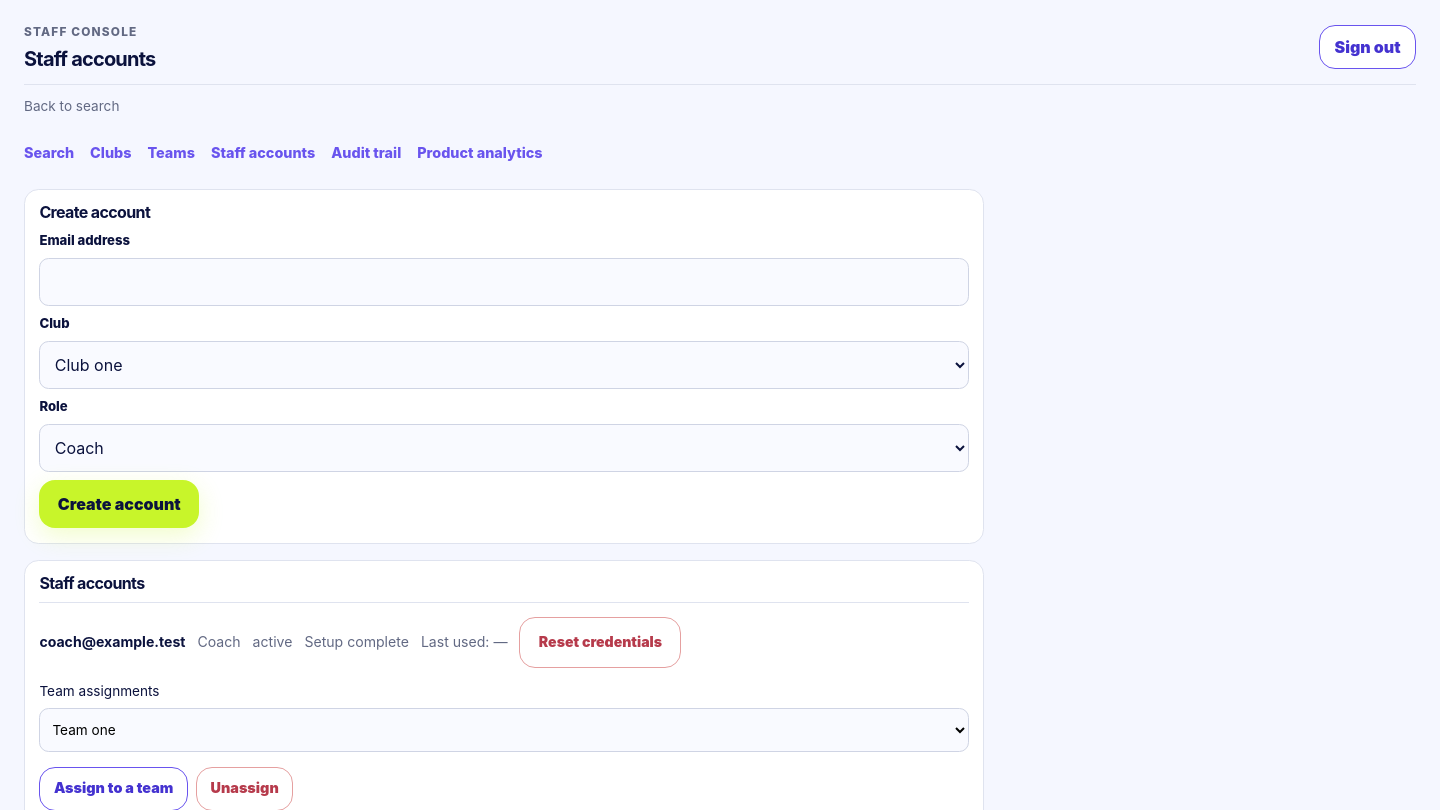
Scenario: staff account step-up intent › cancels without creating staff or discarding the filled form
Type "new@example.test" into the field labelled "Email address" at (504,282), box x1=39 y1=258 x2=969 y2=306
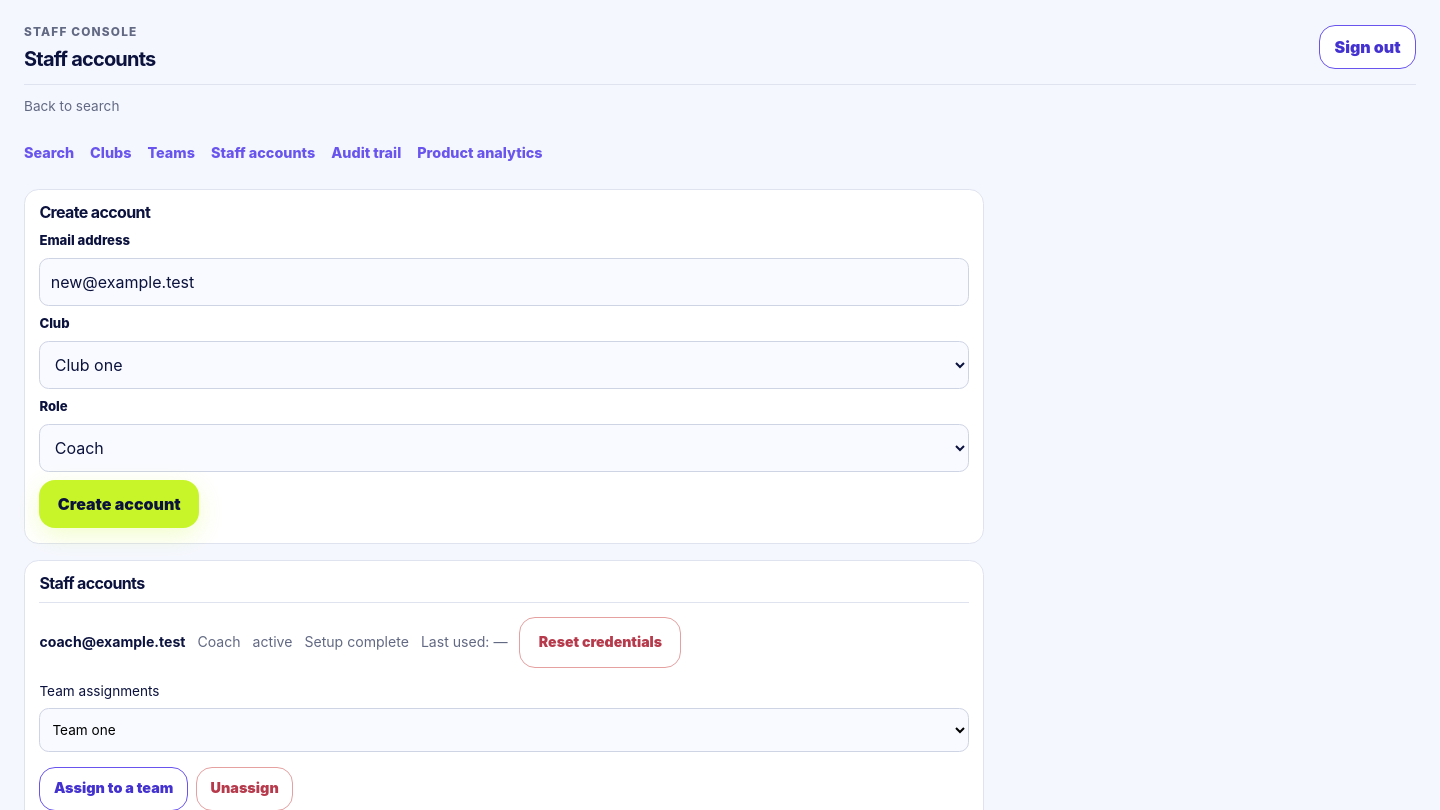
Submit the form from the button "Create account", box x1=39 y1=480 x2=199 y2=528
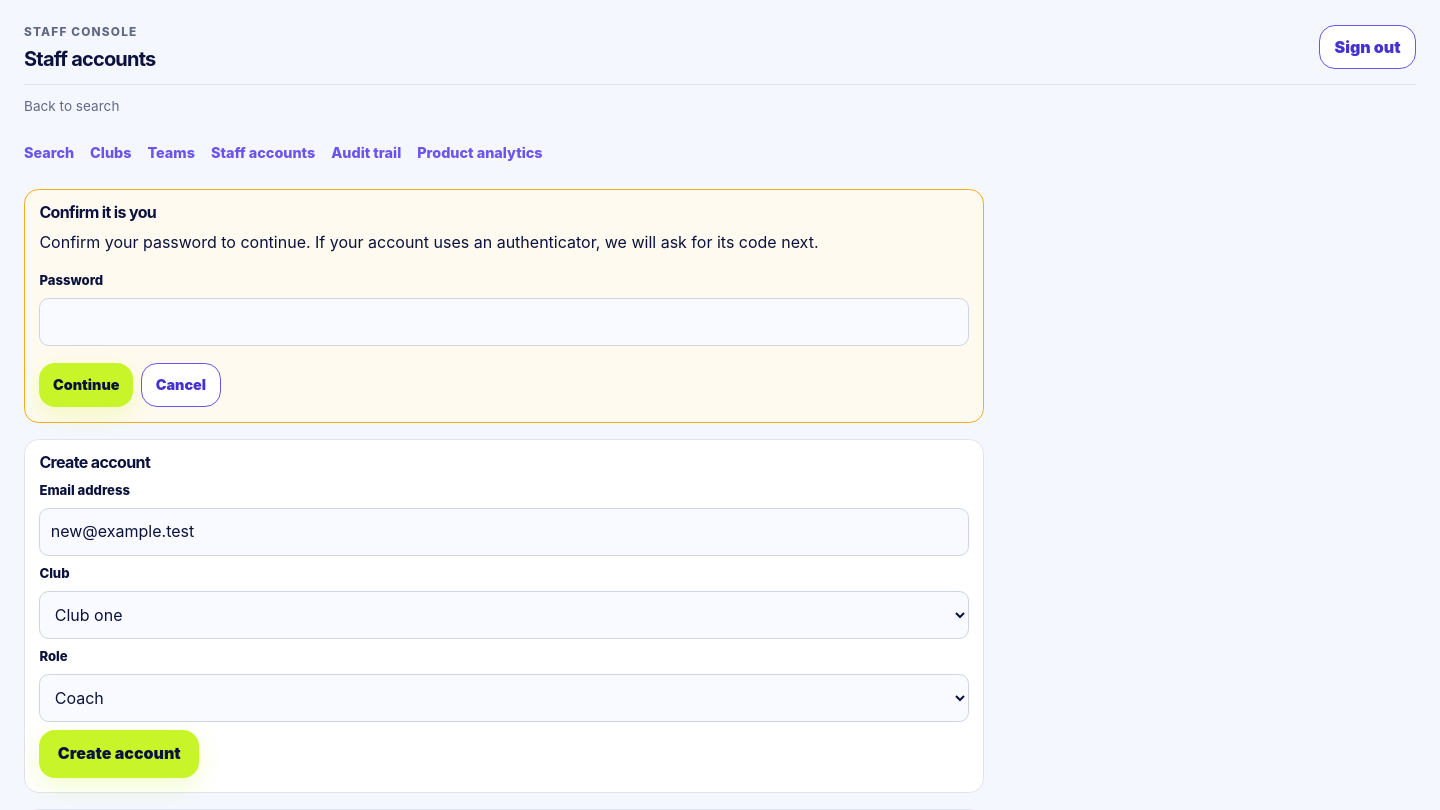
Now the heading "Confirm it is you" is shown, box x1=39 y1=202 x2=156 y2=222
Click the button "Cancel" at (181,385), box x1=141 y1=363 x2=221 y2=407
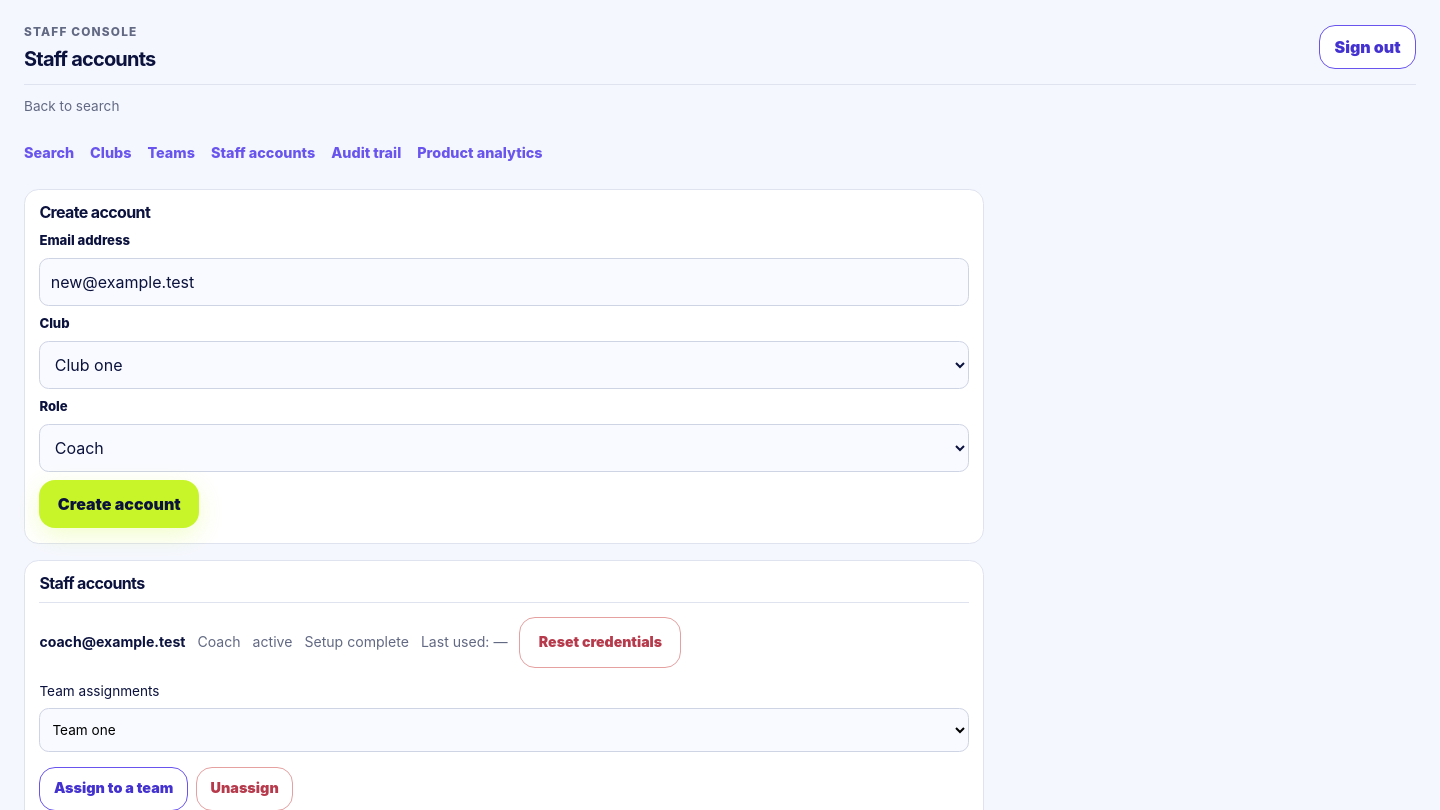
Now the heading "Confirm it is you" is gone
